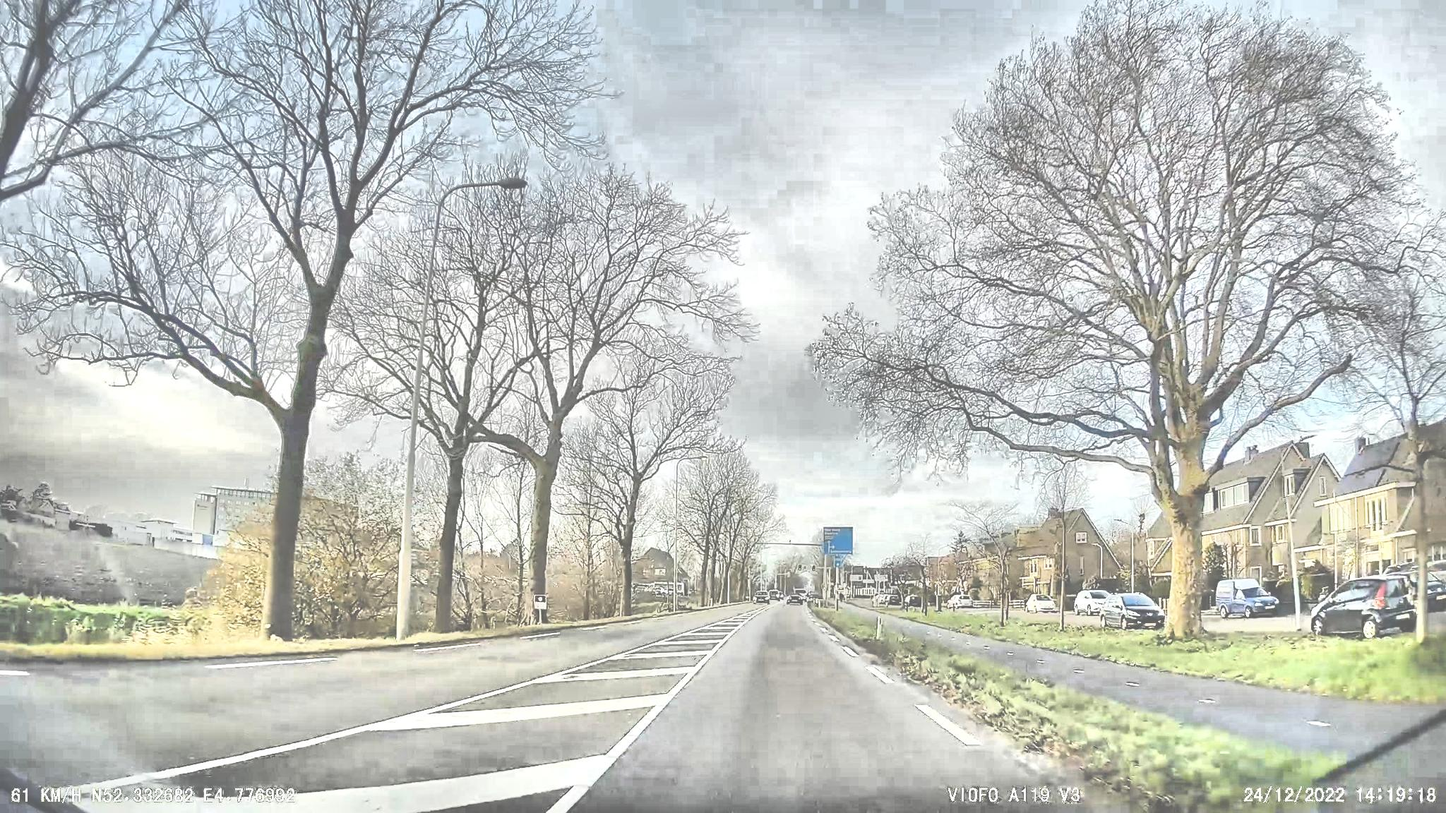Roads: (0, 604, 1100, 813)
